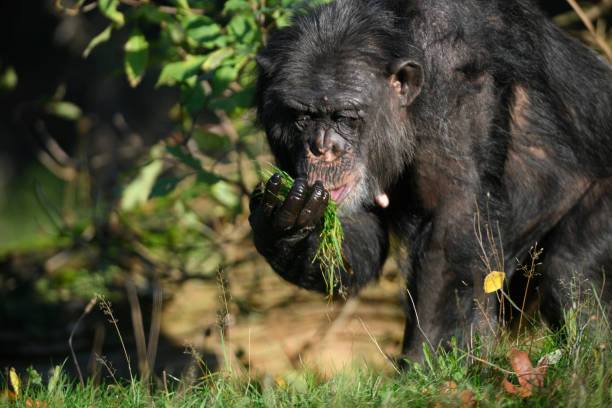chimpanzee: (234, 8, 481, 218)
